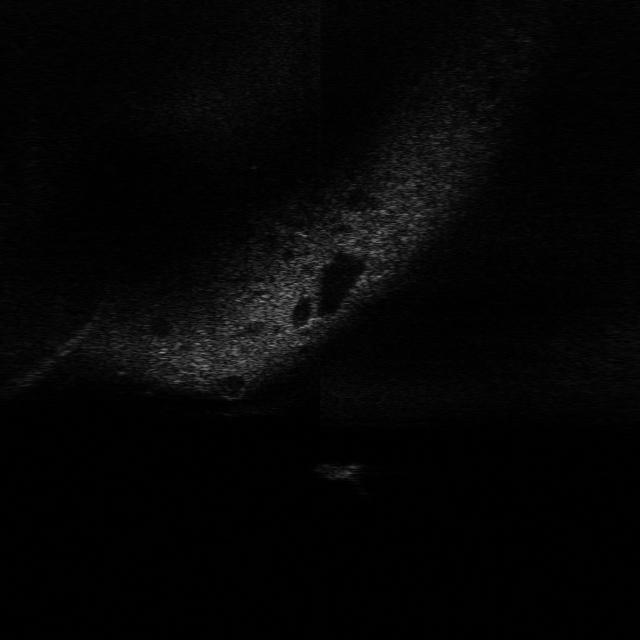cube: (311, 457, 368, 482)
